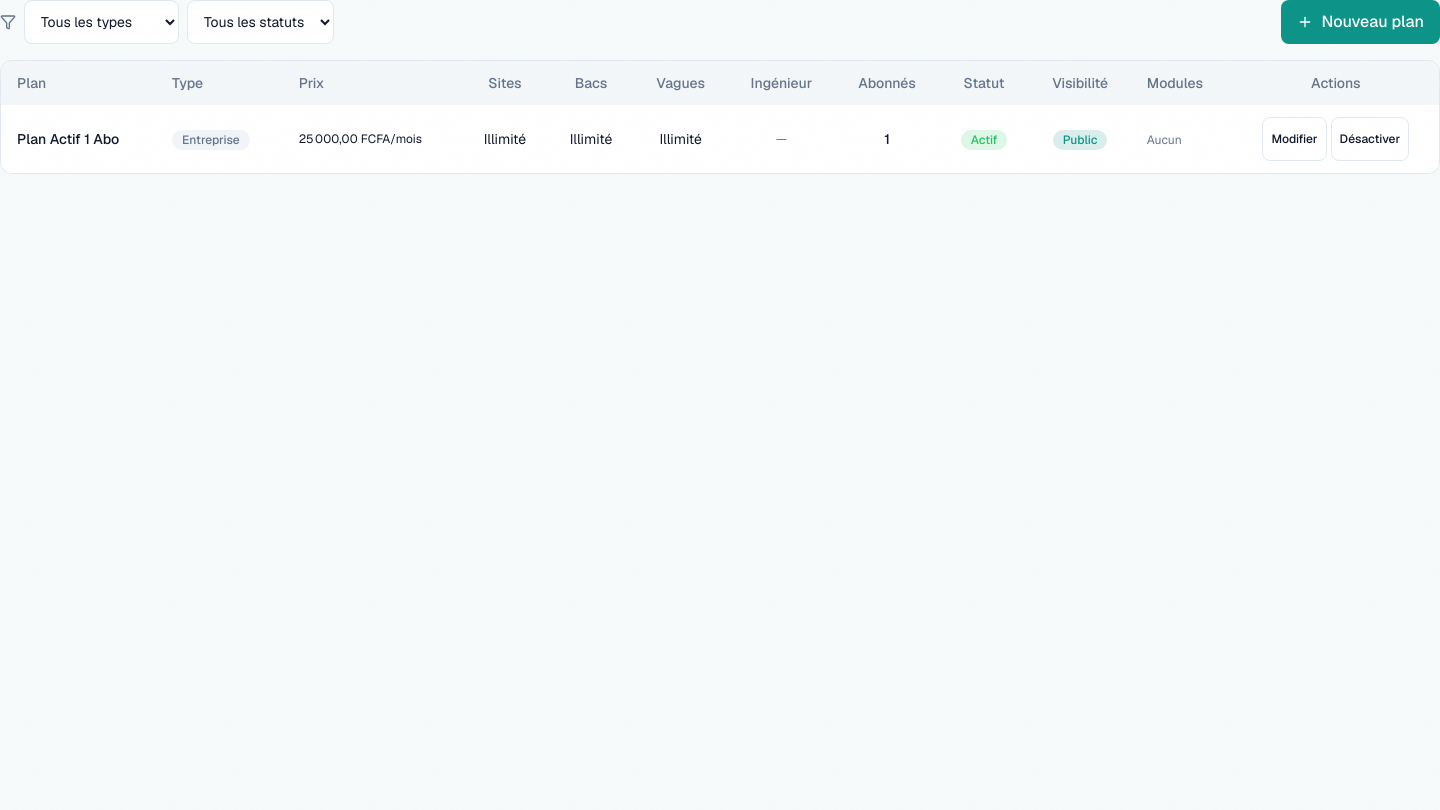
Test: Toggle — Dialog de confirmation (plan avec abonnes actifs) › le dialog affiche le singulier pour 1 abonne
Step 1. Click the button with aria-label "désactiver le plan Plan Actif 1 Abo" → (1370, 139), box 1331,117 -> 1409,161
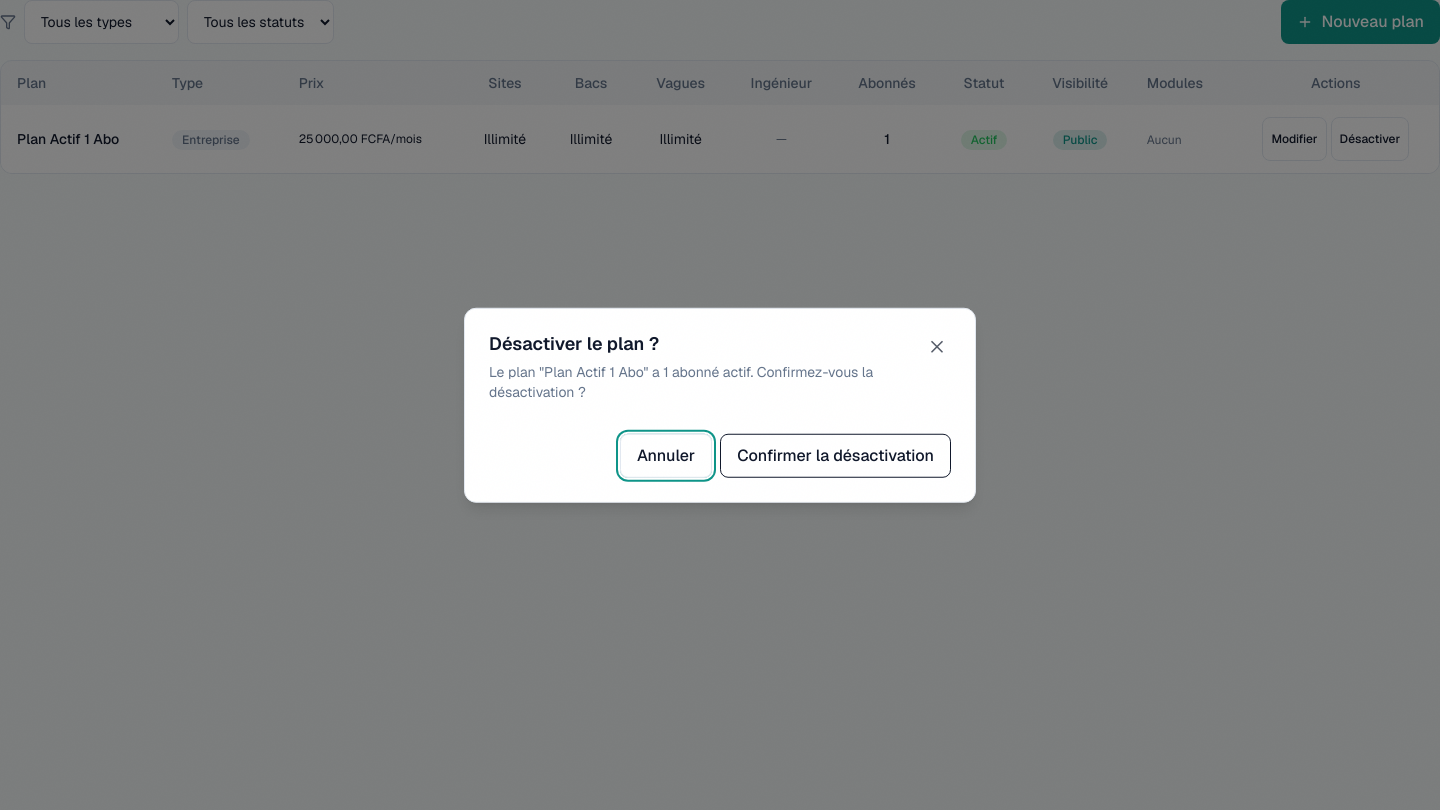
Check: the dialog shows "1", box 489,362 -> 873,400
Check: the dialog shows "abonné actif", box 489,362 -> 873,400
